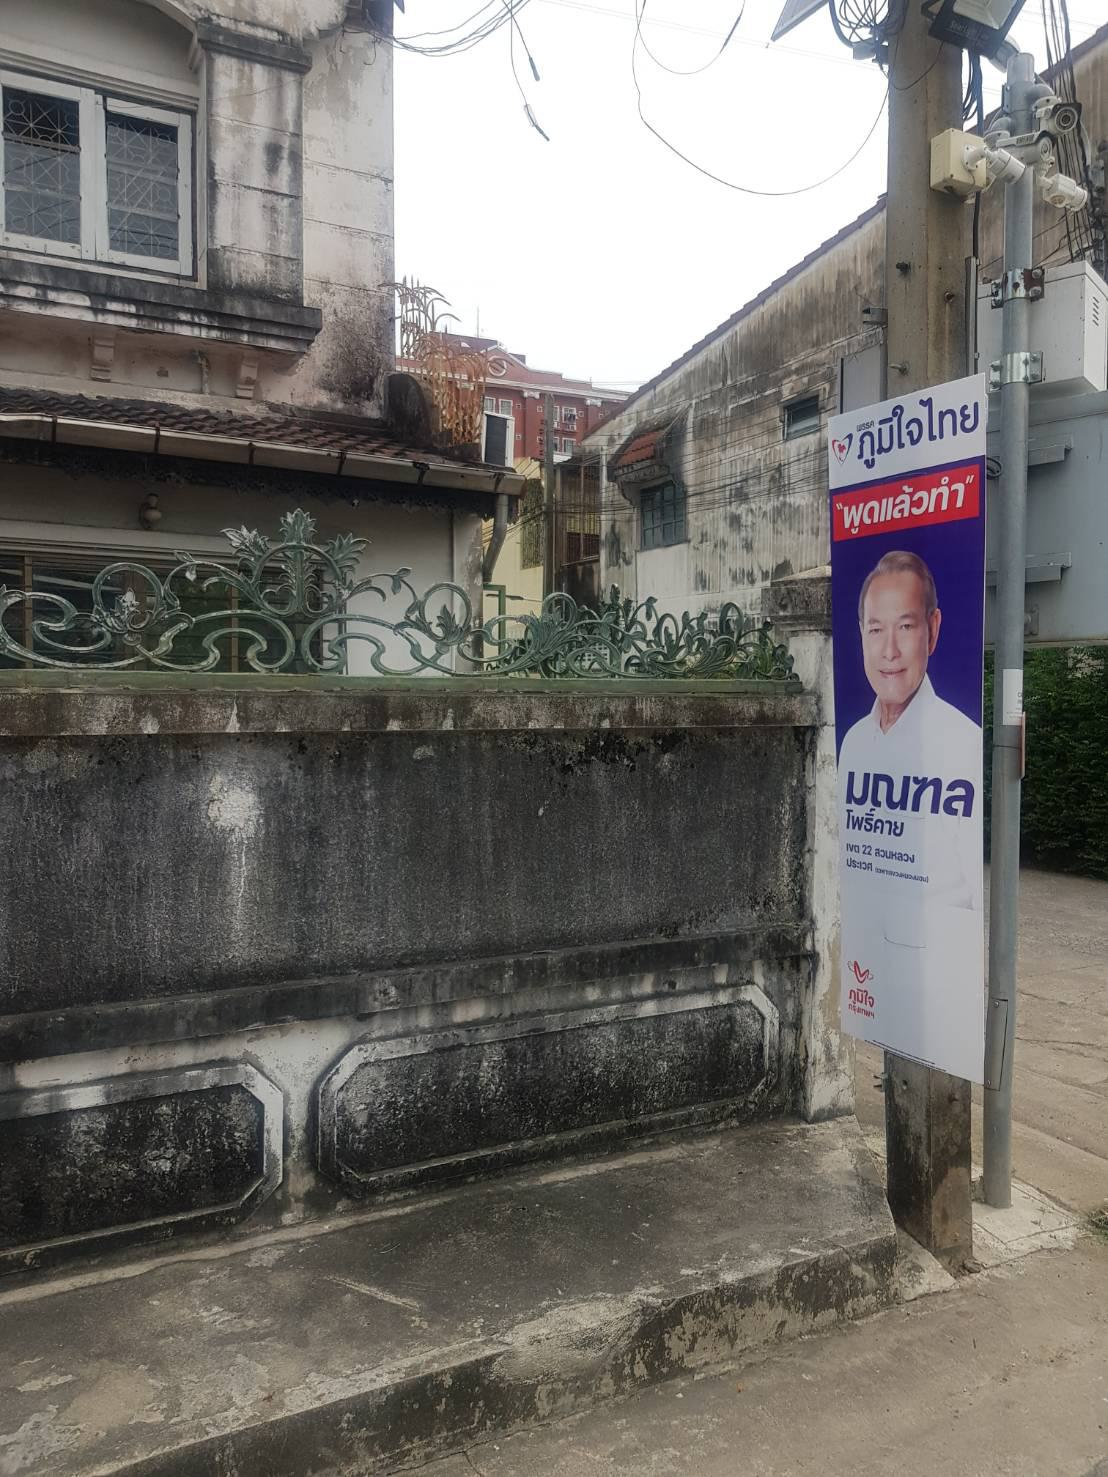Banner: (807, 371, 1016, 1086)
